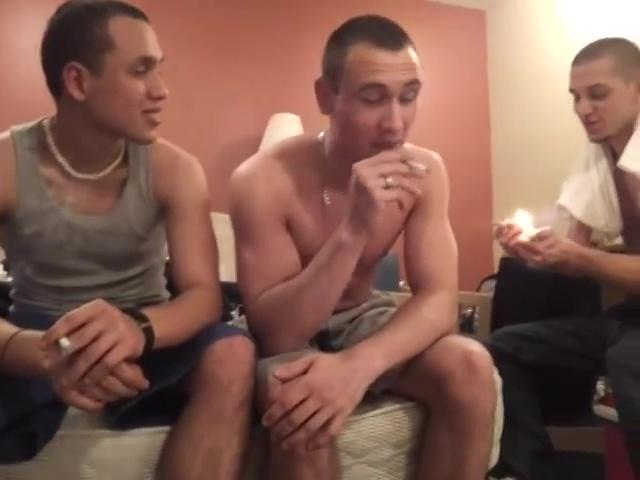cigarette: (406, 157, 432, 176), (57, 336, 73, 348)
